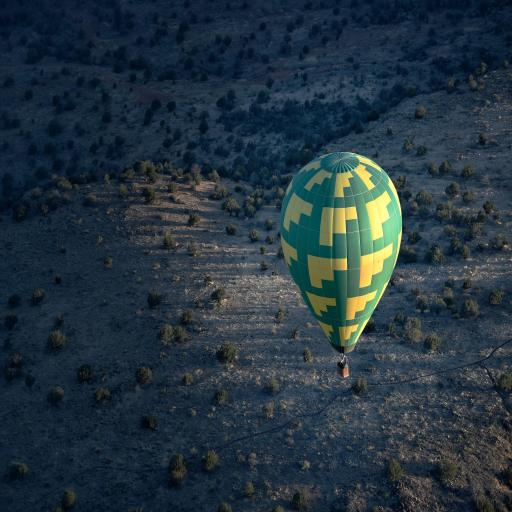hot air ballon: (279, 151, 402, 379)
